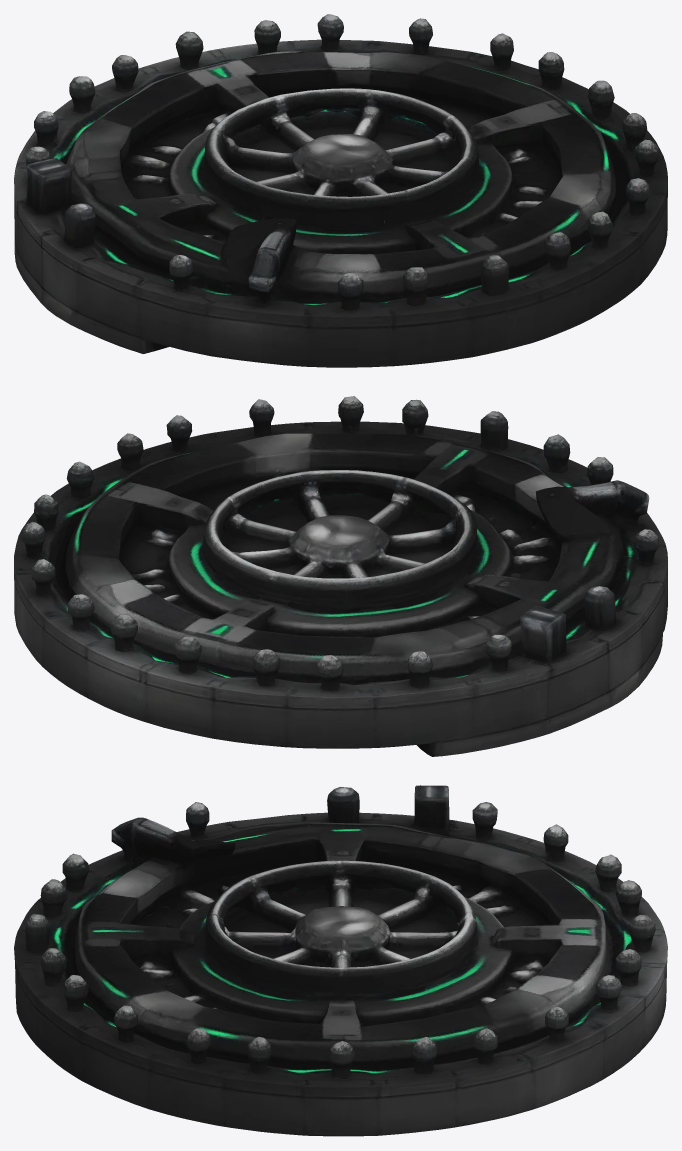
Rendered from m_vault.glb.
3 renders of one model, top to bottom at view 1: azimuth 30°, elevation 25°; view 2: azimuth 150°, elevation 25°; view 3: azimuth 270°, elevation 25°, orthographic.
Visible parts, largest first — view 1: geometry_0; view 2: geometry_0; view 3: geometry_0.
Boxes of the visible parts, x1,y1,x2,y2 form: geometry_0: (14, 14, 667, 367); geometry_0: (14, 396, 667, 756); geometry_0: (14, 785, 667, 1136).
Size of the model in its own units: 0.9915 by 0.1882 by 0.9944.
Materials: 1 (1 with a texture image).
